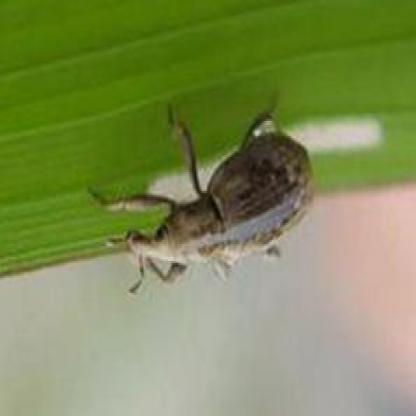rice-bug: (110, 102, 317, 296)
